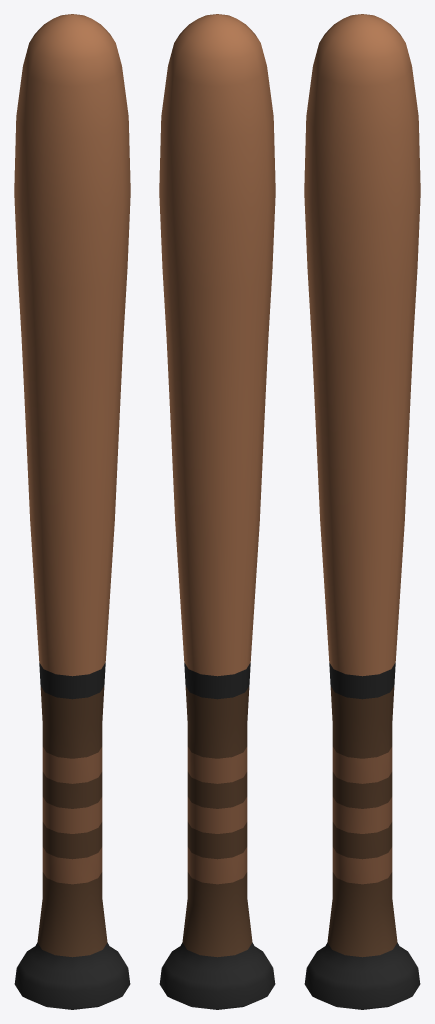
Rendered from baseball bat.fbx.
3 renders of one model, left to right at view 1: azimuth 90°, elevation 25°; view 2: azimuth 150°, elevation 25°; view 3: azimuth 270°, elevation 25°, orthographic.
Parts seen in each view (by area): view 1: Cube.002; view 2: Cube.002; view 3: Cube.002.
Boxes of the visible parts, bbox=[...] form: Cube.002: bbox=[14, 14, 130, 1009]; Cube.002: bbox=[159, 14, 275, 1009]; Cube.002: bbox=[304, 14, 420, 1009].
Size of the model in its own units: 0.085 by 0.783 by 0.085.
